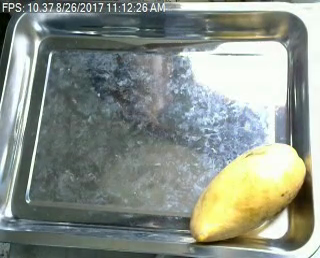Mango: (185, 142, 312, 243)
